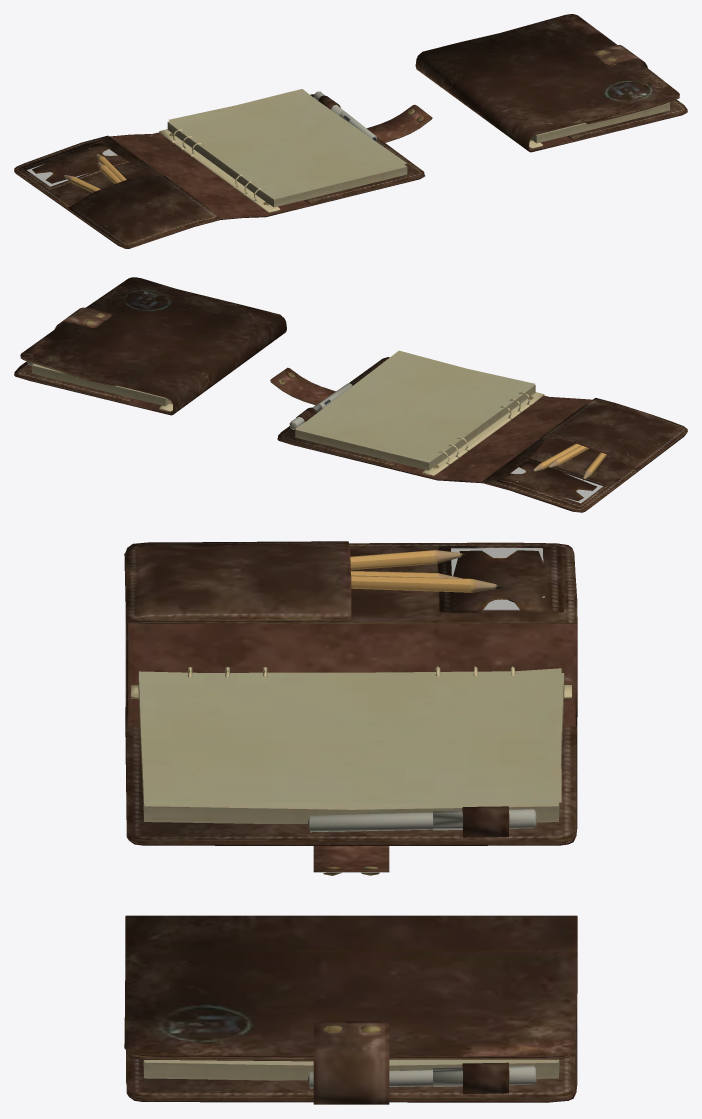
File: binder_notebook.glb
3 renders of one model, top to bottom at view 1: azimuth 30°, elevation 25°; view 2: azimuth 150°, elevation 25°; view 3: azimuth 270°, elevation 25°, orthographic. The views are drawn at different scales.
Visible parts, largest first — view 1: binder_notebook; view 2: binder_notebook; view 3: binder_notebook.
Boxes of the visible parts, box(x1,y1,x2,y2) form: binder_notebook: box(14, 14, 687, 248); binder_notebook: box(14, 277, 687, 512); binder_notebook: box(124, 541, 577, 1104).
Size of the model in its own units: 0.5836 by 0.0249 by 0.1997.
Materials: 1 (1 with a texture image).
